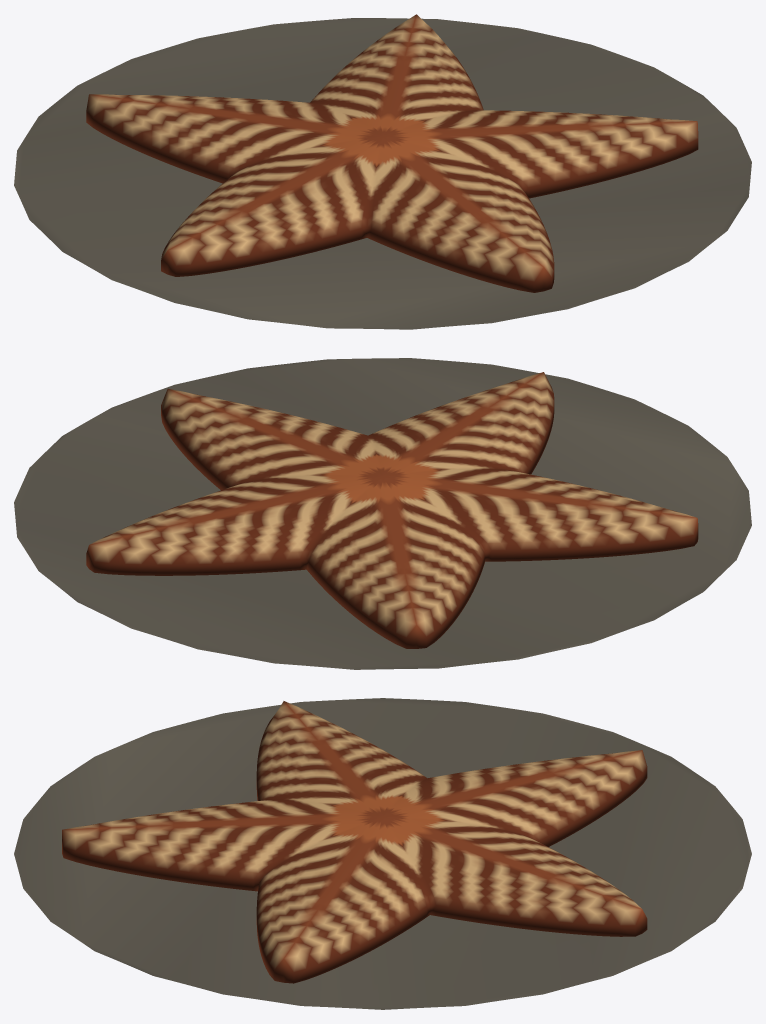
Rendered from VillebrunasterThorali.fbx.
3 renders of one model, top to bottom at view 1: azimuth 30°, elevation 25°; view 2: azimuth 150°, elevation 25°; view 3: azimuth 270°, elevation 25°, orthographic.
Visible parts, largest first — view 1: VillebrunasterThorali; view 2: VillebrunasterThorali; view 3: VillebrunasterThorali.
Part boxes in pixels (bbox=[...]): VillebrunasterThorali: bbox=[14, 14, 751, 329]; VillebrunasterThorali: bbox=[14, 358, 751, 669]; VillebrunasterThorali: bbox=[14, 698, 751, 1009].
Size of the model in its own units: 1.79 by 0.1 by 1.79.
